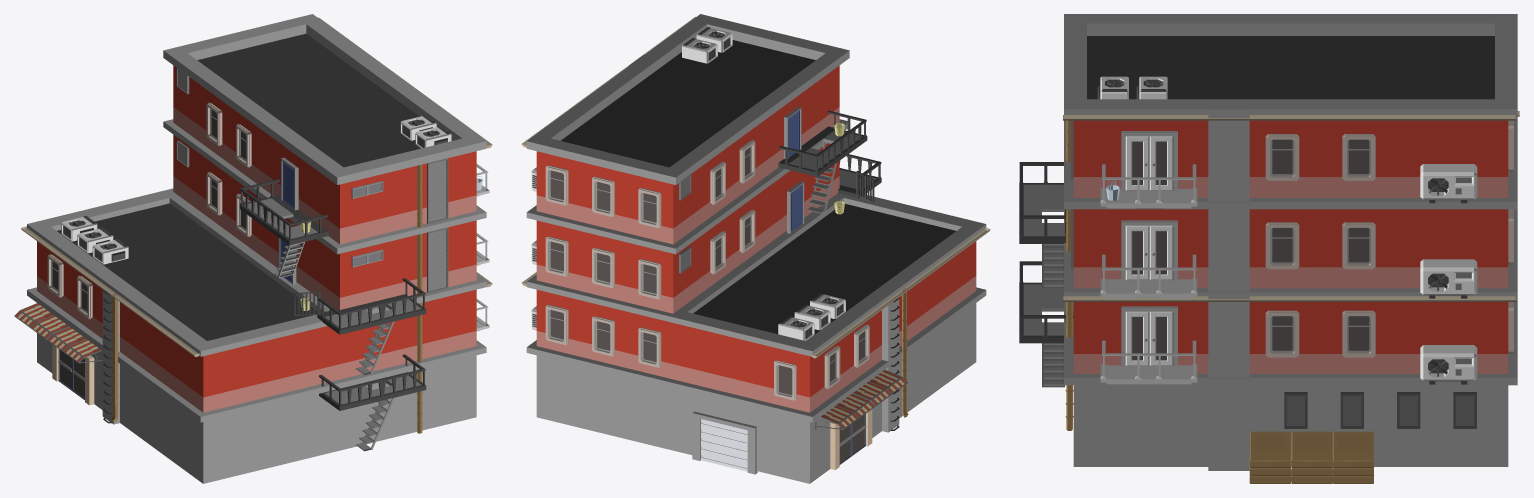
The model's file is House 3.fbx.
The picture shows the model from 3 angles, left to right: view 1: azimuth 30°, elevation 25°; view 2: azimuth 150°, elevation 25°; view 3: azimuth 270°, elevation 25°; orthographic projection. The views are drawn at different scales.
Parts seen in each view (by area): view 1: House 3; view 2: House 3; view 3: House 3.
Part boxes in pixels (bbox=[...]): House 3: bbox=[14, 14, 492, 483]; House 3: bbox=[521, 14, 990, 483]; House 3: bbox=[1019, 14, 1519, 483].
Bounding box in the file's own units: 15.31 × 12.57 × 15.45.
